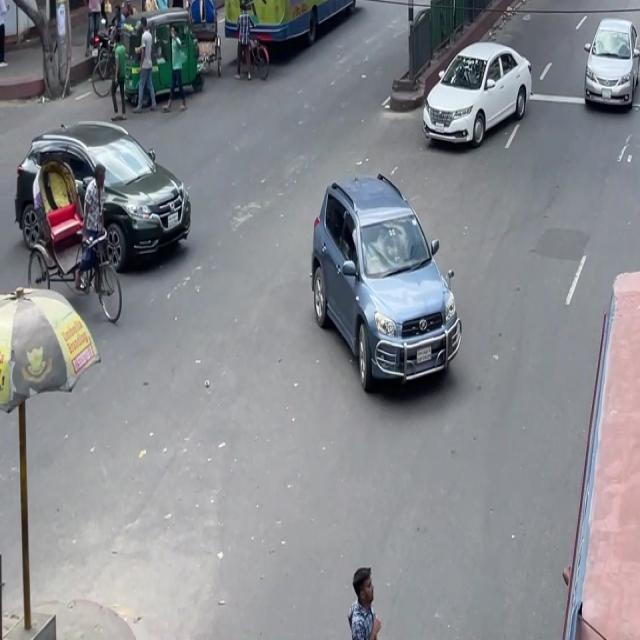bus: (214, 0, 372, 69)
car: (302, 164, 468, 408), (9, 106, 197, 282), (420, 32, 533, 159), (579, 9, 640, 120)
rickshaw: (139, 7, 210, 118)
